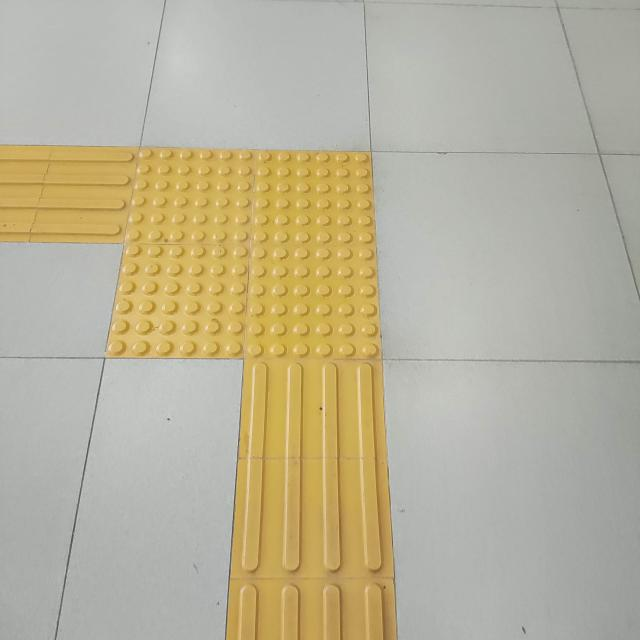kiri: (0, 109, 499, 458)
